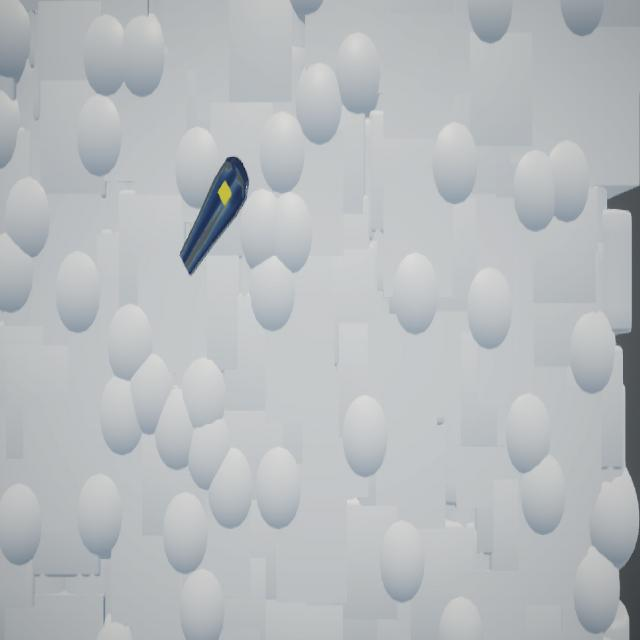handle_knife: (180, 157, 250, 278)
